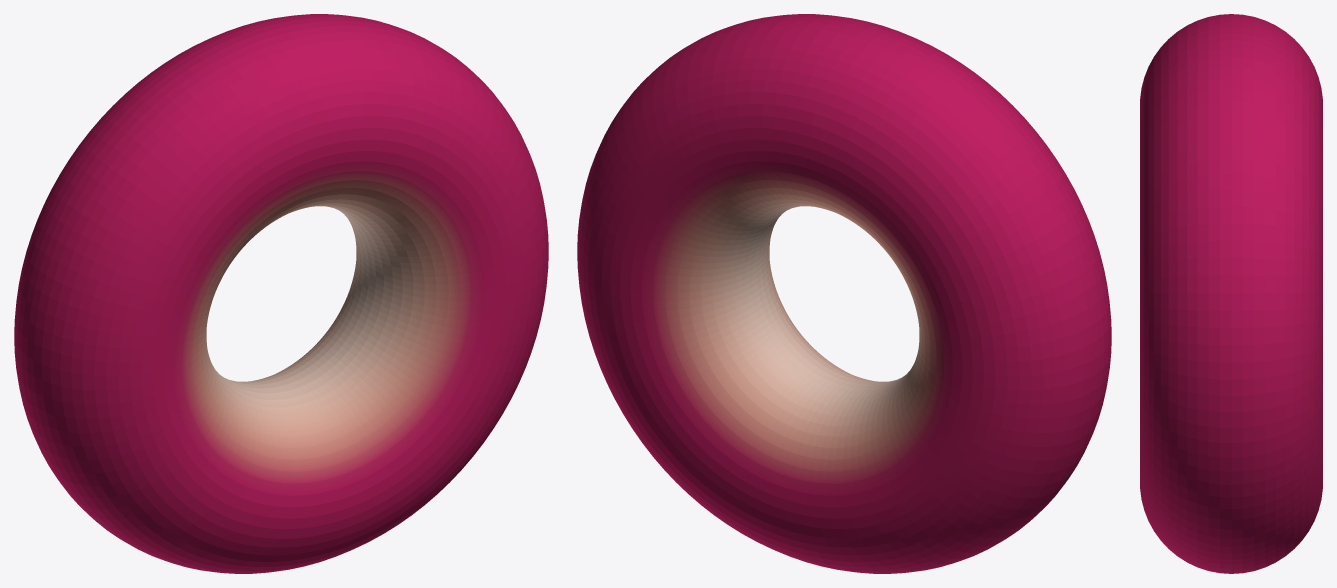
3 renders of one model, left to right at view 1: azimuth 30°, elevation 25°; view 2: azimuth 150°, elevation 25°; view 3: azimuth 270°, elevation 25°, orthographic. The views are drawn at different scales.
Visible parts, largest first — view 1: world; view 2: world; view 3: world.
Boxes of the visible parts, x1,y1,x2,y2 form: world: (14, 14, 548, 573); world: (577, 14, 1111, 573); world: (1140, 14, 1322, 573).
Size of the model in its own units: 29.73 by 29.73 by 9.71.
